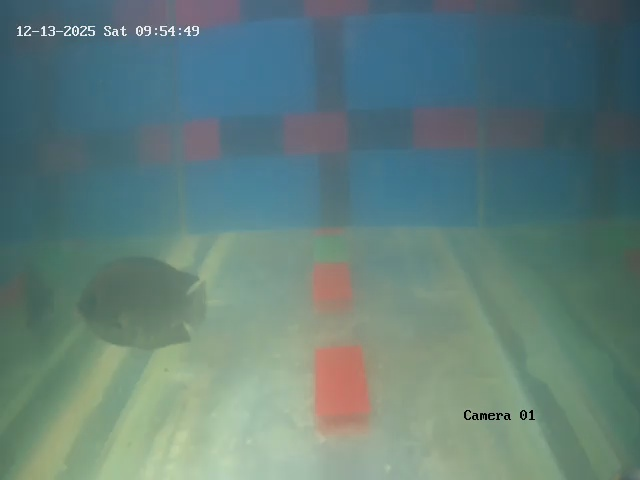fish: (69, 253, 214, 352)
